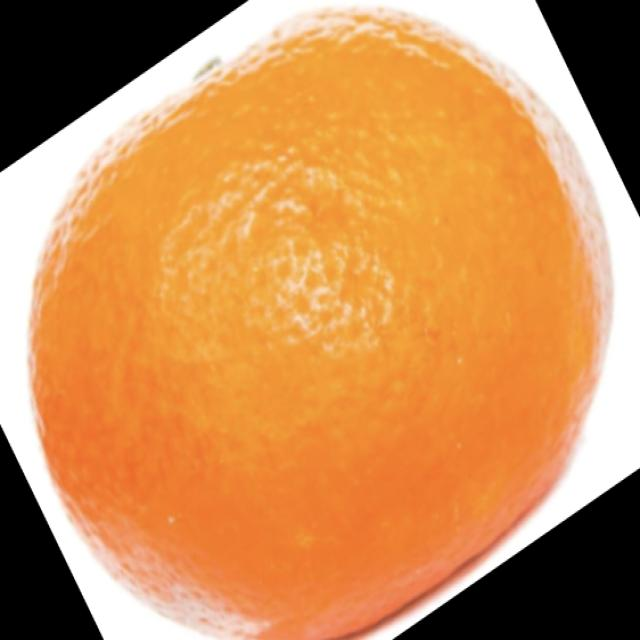matang: (28, 14, 616, 640)
